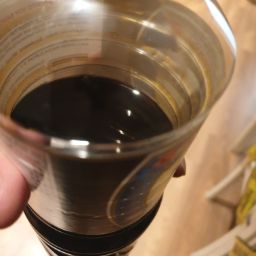Soy Sauce: (14, 68, 181, 164), (55, 87, 133, 133)
